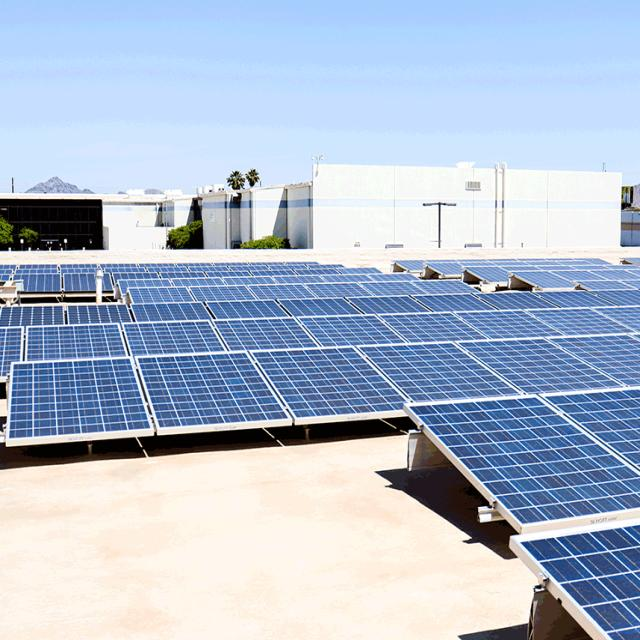clean-solar-panel: (0, 290, 640, 445), (405, 385, 640, 640)
